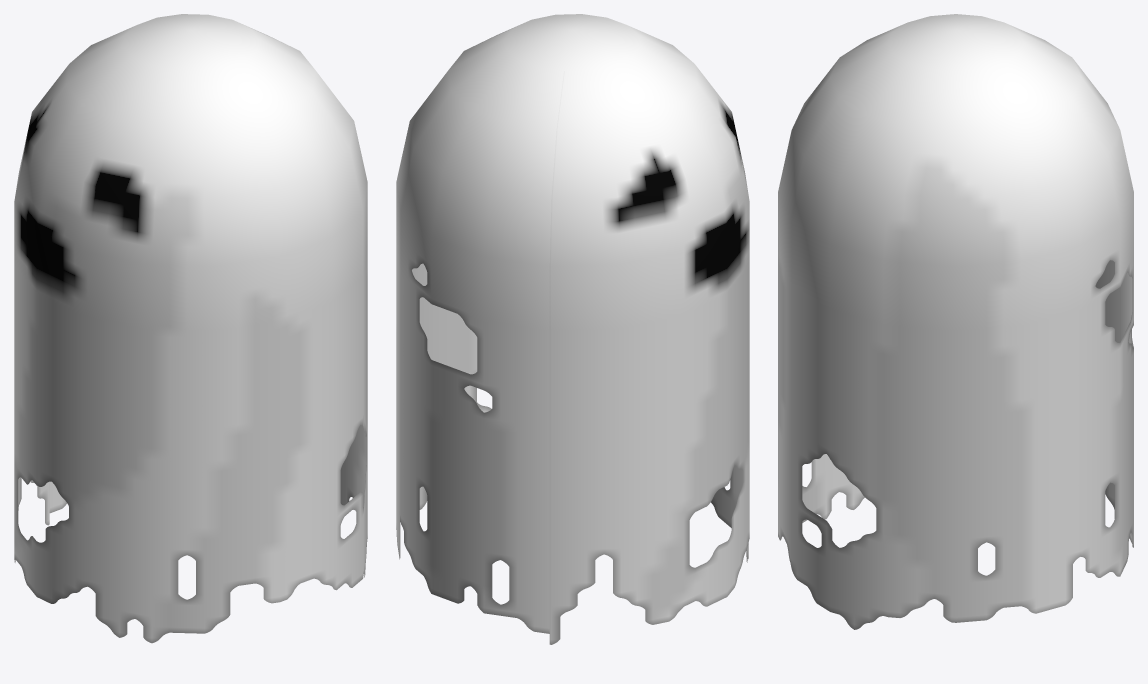
The model's file is ghost.fbx.
3 renders of one model, left to right at view 1: azimuth 30°, elevation 25°; view 2: azimuth 150°, elevation 25°; view 3: azimuth 270°, elevation 25°, orthographic.
Visible parts, largest first — view 1: Ghost; view 2: Ghost; view 3: Ghost.
Part boxes in pixels (x1,y1,x2,y2): Ghost: [14, 14, 367, 643]; Ghost: [396, 14, 749, 644]; Ghost: [778, 14, 1133, 629].
Bounding box in the file's own units: 200 × 350 × 200.
